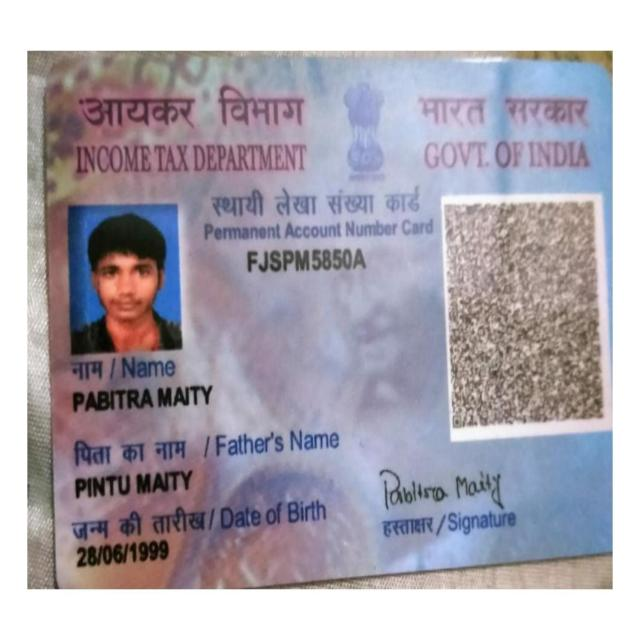pan_card: (47, 65, 608, 588)
